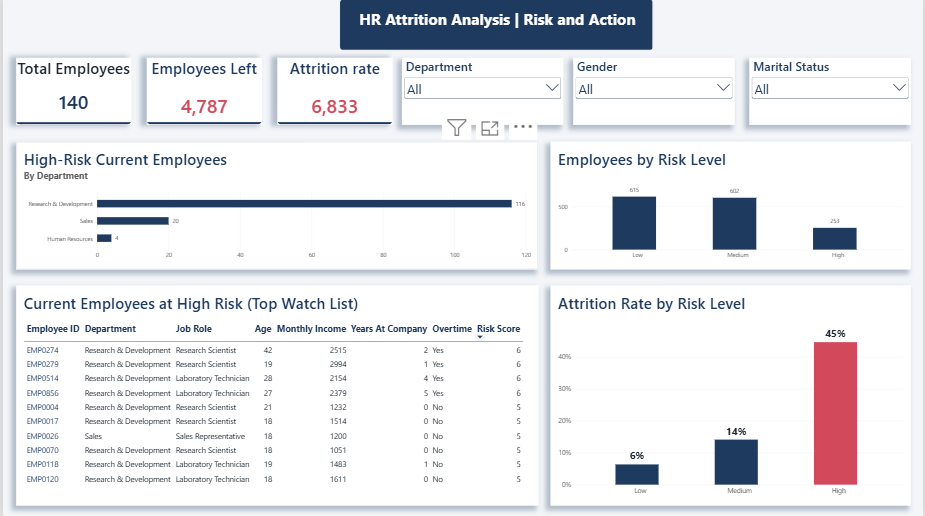

The dashboard page shown, as its layout file describes it:
{"tool":"powerbi","page":{"name":"Risk and Action","canvas":[1920,1080],"ordinal":2},"visuals":[{"type":"shape","box":[702.5,0,654.5,107.5],"z":0},{"type":"textbox","title":"HR Attrition Analysis | Risk and Action","box":[719.8,21.1,623.8,59.5],"z":1000},{"type":"slicer","fields":{"Values":["Employees.Department"]},"box":[832.5,122.5,337.5,140],"z":2000},{"type":"slicer","fields":{"Values":["Employees.Gender"]},"box":[1190,122.5,337.5,140],"z":3000},{"type":"slicer","fields":{"Values":["Employees.Marital Status"]},"box":[1557.5,122.5,337.5,140],"z":4000},{"type":"cardVisual","title":"Total Employees","fields":{"Data":["_Measures.High Risk Current Employees"]},"box":[27.1,123,240,140],"z":5000},{"type":"cardVisual","title":"Employees Left","fields":{"Data":["_Measures.Avg Income Leavers Label"]},"box":[300,122.5,240,140],"z":6000},{"type":"cardVisual","title":"Attrition rate","fields":{"Data":["_Measures.Avg Income Stayers Label"]},"box":[572.5,122.5,240,140],"z":7000},{"type":"clusteredColumnChart","title":"Employees by Risk Level","fields":{"Category":["Employees.Risk Level"],"Y":["_Measures.Total Employees"]},"box":[1142.5,297.5,752.5,267.5],"z":11000},{"type":"clusteredColumnChart","fields":{"Category":["Employees.Risk Level"],"Y":["_Measures.Attrition Rate"]},"box":[1142.5,597.5,752.5,460],"z":12000},{"type":"clusteredBarChart","title":"High-Risk Current Employees","fields":{"Category":["Employees.Department"],"Y":["_Measures.High Risk Current Employees"]},"box":[27.5,297.5,1090,267.5],"z":14000},{"type":"tableEx","title":"Current Employees at High Risk (Top Watch List)","fields":{"Values":["Employees.Employee ID","Employees.Department","Employees.Job Role","Employees.Age","Employees.Monthly Income","Employees.Years At Company","Employees.Overtime","Employees.Risk Score"]},"box":[27.5,597.5,1090,460],"z":14001}]}

Visuals, with their boxes in screenshot pixels (x1, y1, x2, y2), scaled from the page's 1920x1080 canvas onto the 925x516 screenshot:
shape: locate(338, 0, 654, 51)
"HR Attrition Analysis | Risk and Action" textbox: locate(347, 10, 647, 39)
slicer - Employees.Department: locate(401, 59, 564, 125)
slicer - Employees.Gender: locate(573, 59, 736, 125)
slicer - Employees.Marital Status: locate(750, 59, 913, 125)
"Total Employees" cardVisual: locate(13, 59, 129, 126)
"Employees Left" cardVisual: locate(145, 59, 260, 125)
"Attrition rate" cardVisual: locate(276, 59, 391, 125)
"Employees by Risk Level" clusteredColumnChart: locate(550, 142, 913, 270)
clusteredColumnChart - Employees.Risk Level x _Measures.Attrition Rate: locate(550, 285, 913, 505)
"High-Risk Current Employees" clusteredBarChart: locate(13, 142, 538, 270)
"Current Employees at High Risk (Top Watch List)" tableEx: locate(13, 285, 538, 505)
